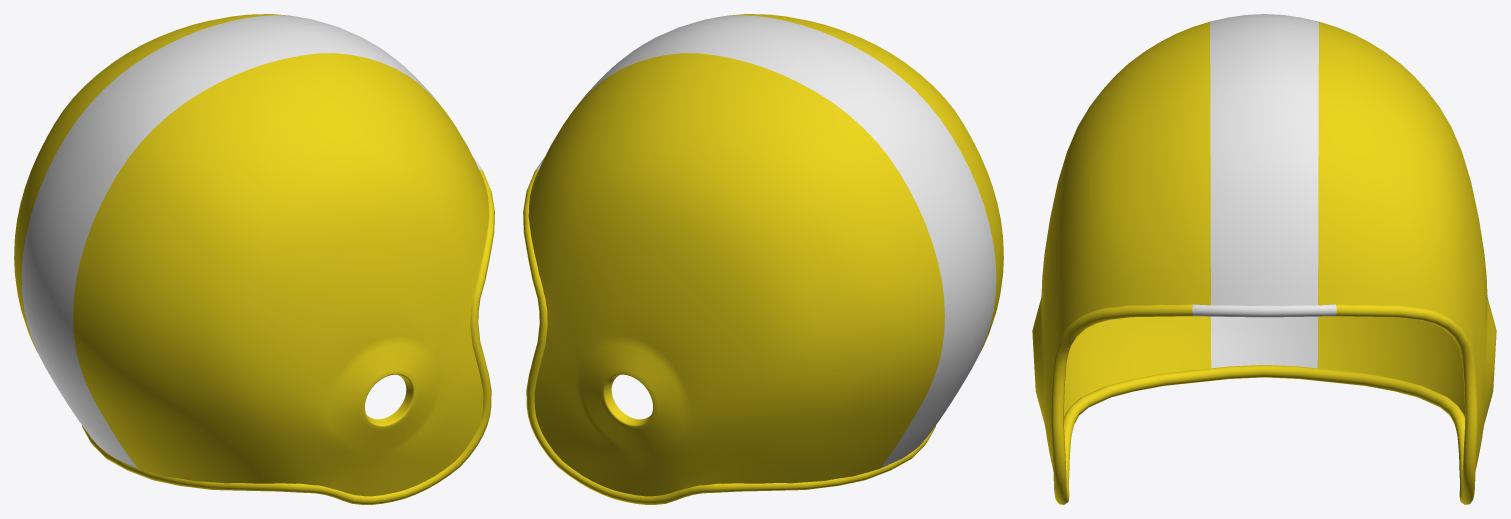
The model's file is Casco Amarillo .fbx.
The picture shows the model from 3 angles, left to right: view 1: azimuth 30°, elevation 25°; view 2: azimuth 150°, elevation 25°; view 3: azimuth 270°, elevation 25°; orthographic projection. The views are drawn at different scales.
Parts seen in each view (by area): view 1: helmet.001; view 2: helmet.001; view 3: helmet.001.
Boxes of the visible parts, bbox=[...] form: helmet.001: bbox=[14, 14, 494, 504]; helmet.001: bbox=[523, 14, 1003, 504]; helmet.001: bbox=[1032, 14, 1496, 504].
Bounding box in the file's own units: 62225 × 58062 × 57303.
